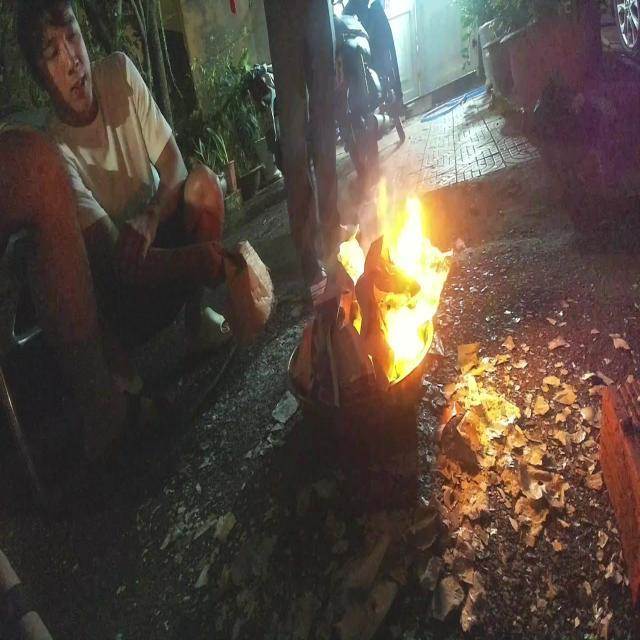Fire: (314, 176, 452, 379)
